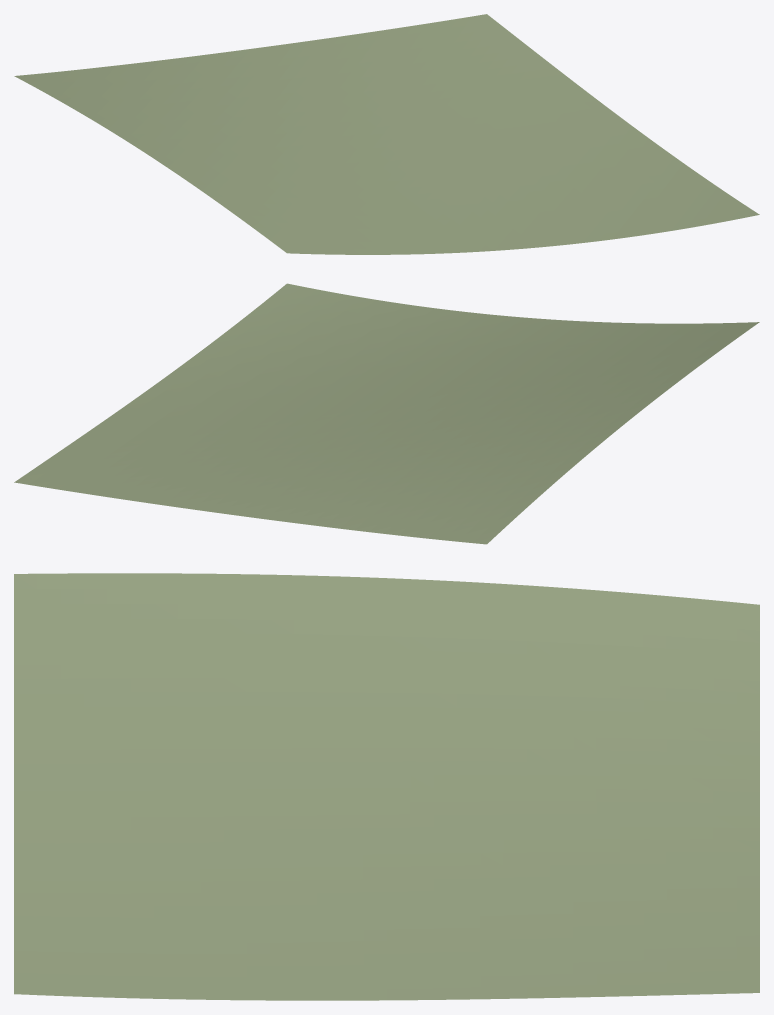
Rendered from alpine-13-1.glb.
The picture shows the model from 3 angles, top to bottom: view 1: azimuth 30°, elevation 25°; view 2: azimuth 150°, elevation 25°; view 3: azimuth 270°, elevation 25°; orthographic projection. The views are drawn at different scales.
Visible parts, largest first — view 1: alpine-13-1; view 2: alpine-13-1; view 3: alpine-13-1.
Boxes of the visible parts, x1,y1,x2,y2 form: alpine-13-1: (14,14,759,254); alpine-13-1: (14,283,759,544); alpine-13-1: (14,573,759,1000).
Bounding box in the file's own units: 256 × 42.46 × 256.
